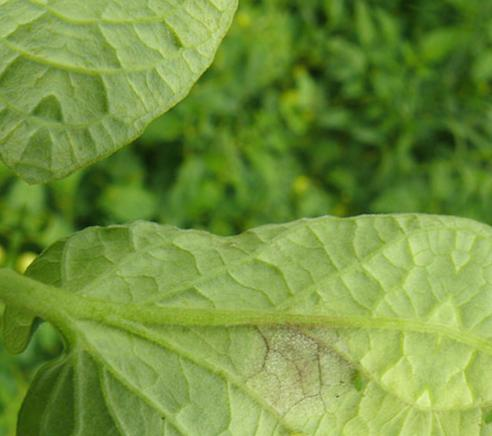Tomato leaf late blight: (0, 101, 474, 436)
